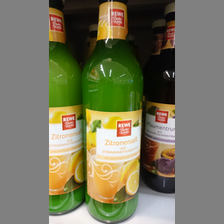juice: (82, 2, 144, 223), (49, 3, 86, 216), (143, 4, 174, 192)
